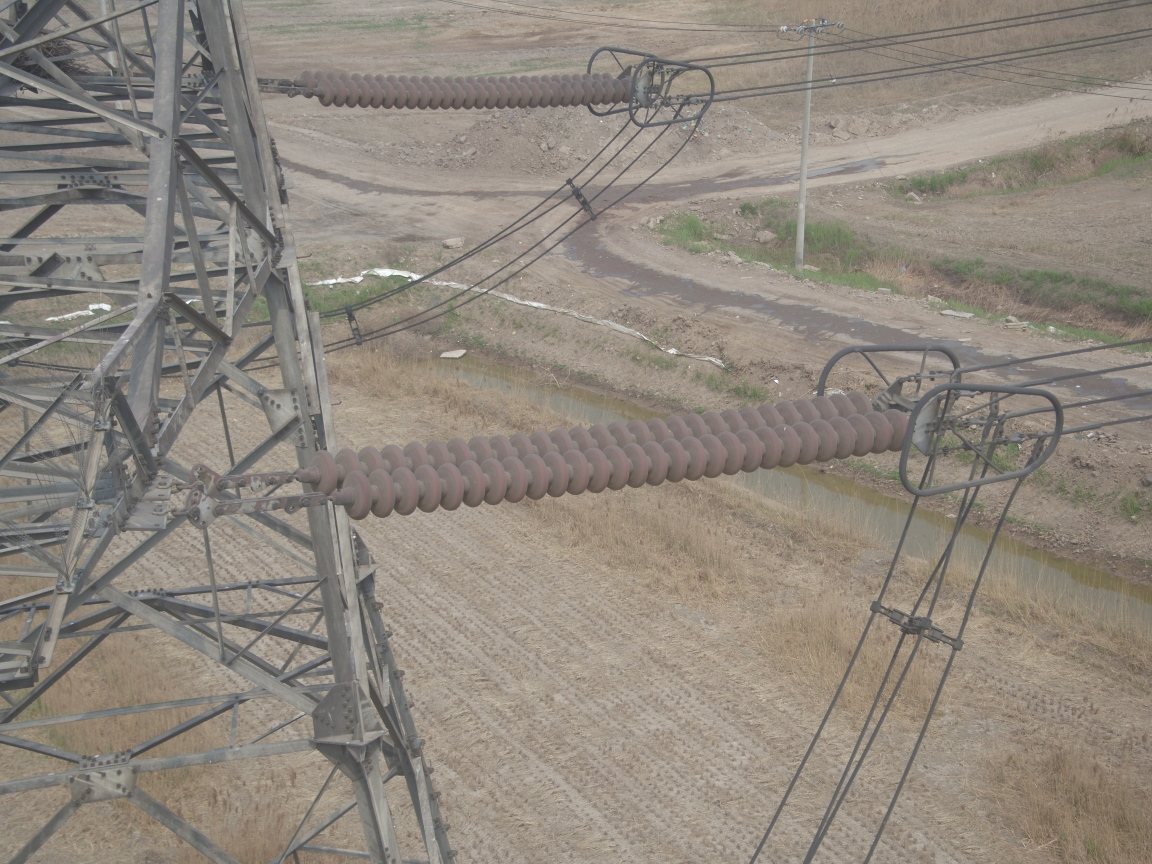insulator: (241, 381, 922, 522), (272, 67, 645, 113)
